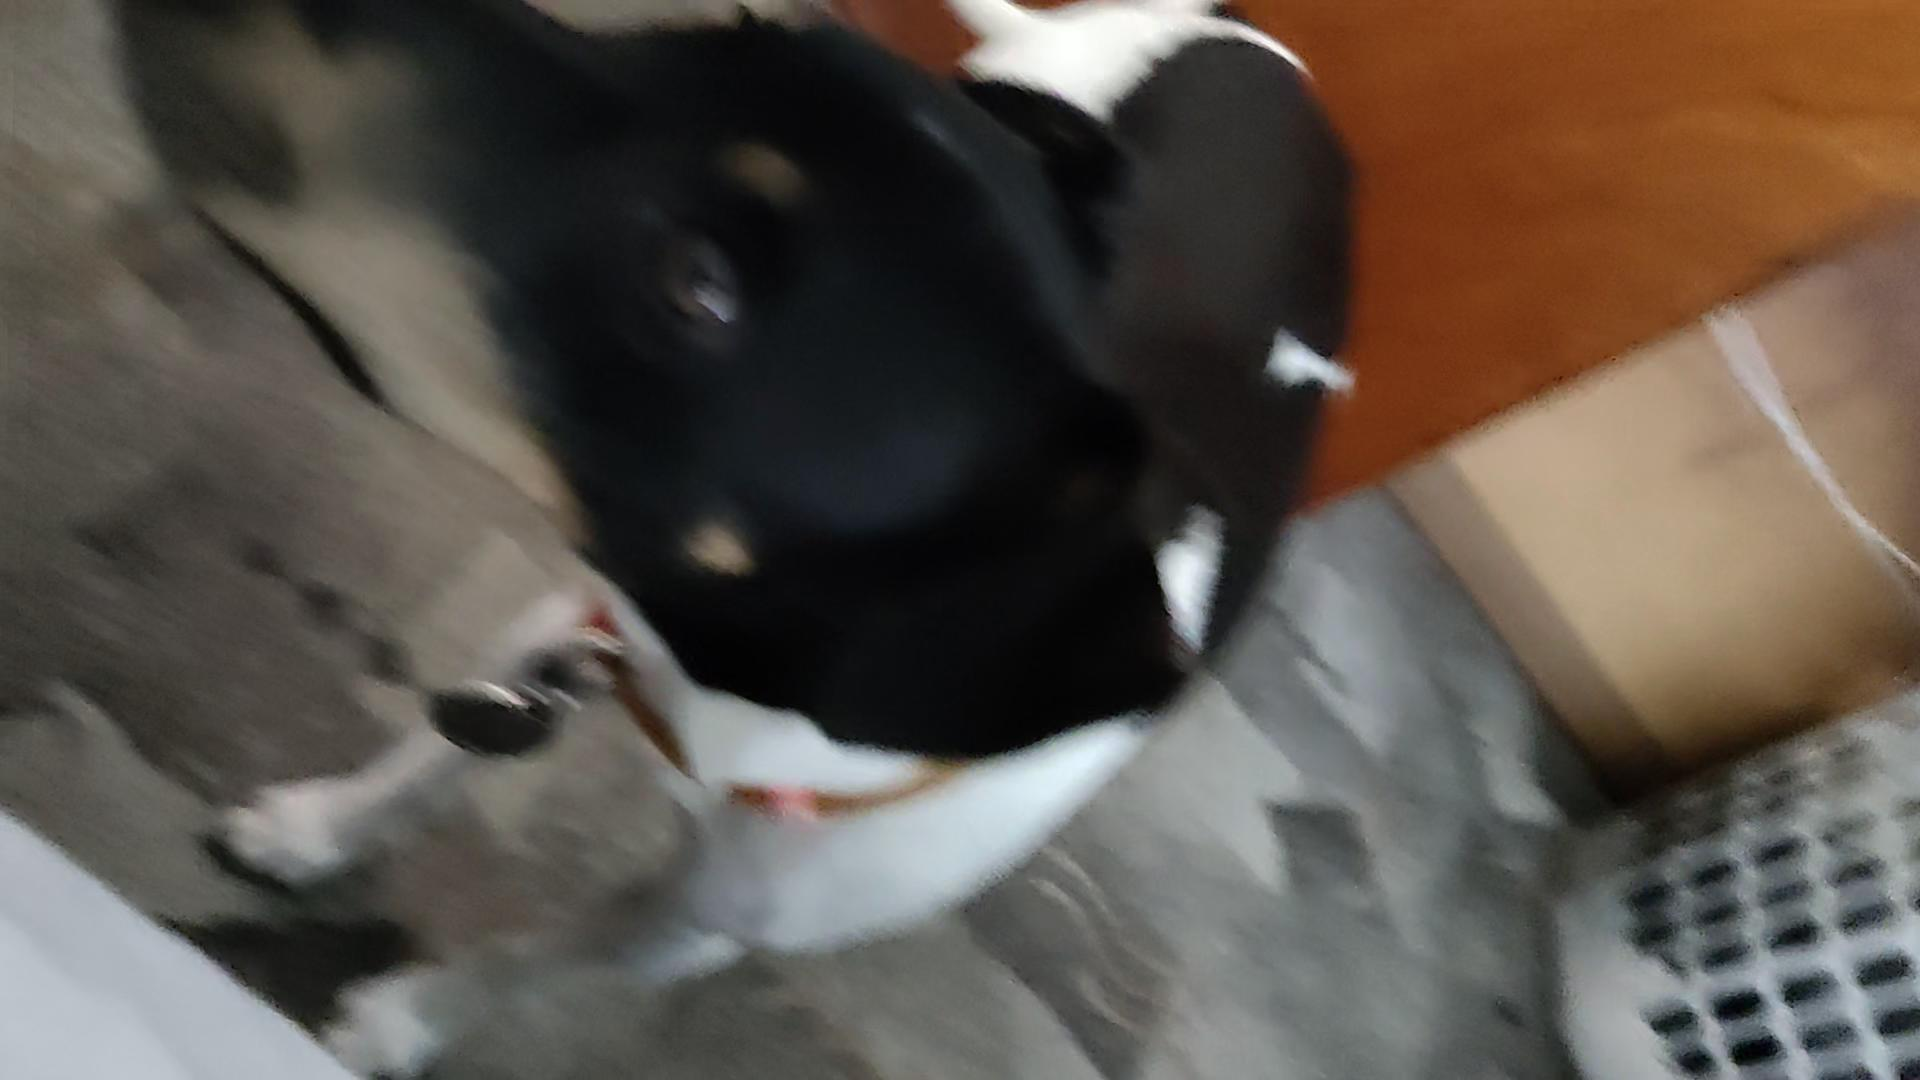Dog: (75, 0, 1391, 1080)
